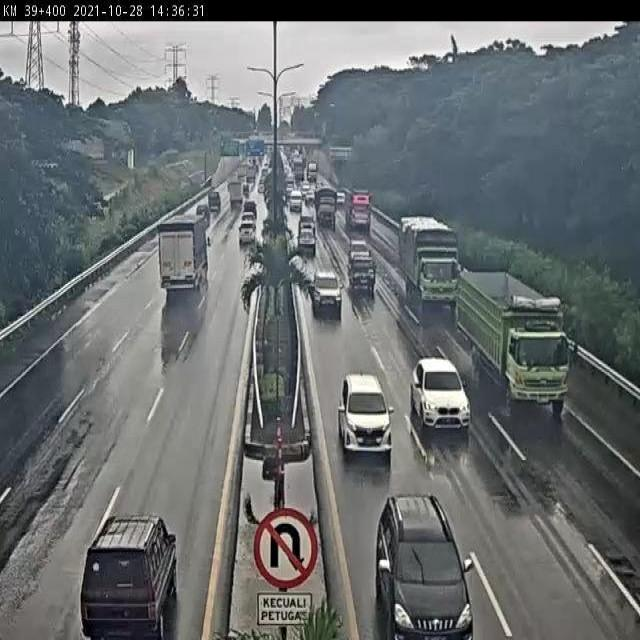big truck: (458, 270, 572, 414), (399, 215, 459, 312), (159, 216, 210, 291)
car: (376, 488, 474, 640), (79, 512, 181, 640), (412, 356, 474, 437), (339, 375, 393, 456), (310, 269, 344, 312), (348, 254, 377, 290), (236, 222, 256, 250), (297, 224, 316, 251), (348, 235, 368, 257), (238, 208, 257, 228), (194, 200, 210, 219)
